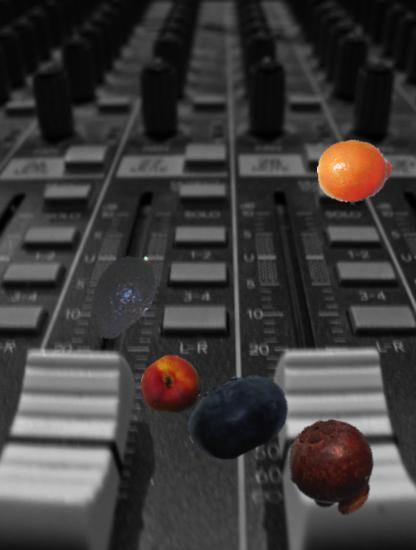Avocado: (75, 250, 168, 343)
Blueberry: (185, 363, 291, 469)
Mangostan: (284, 417, 385, 518)
Nectarine: (141, 354, 202, 415)
Tangelo: (317, 135, 393, 211)
